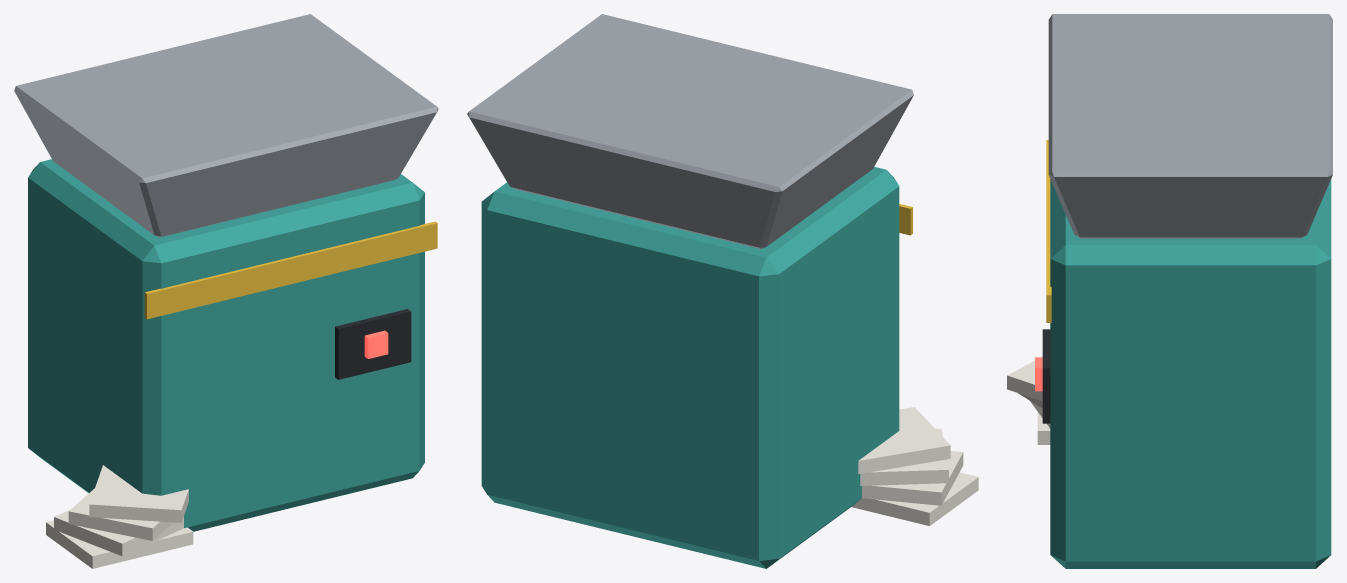
File: shredder_3.glb
3 views of the same model, side by side, from view 1: azimuth 30°, elevation 25°; view 2: azimuth 150°, elevation 25°; view 3: azimuth 270°, elevation 25° (orthographic). The views are drawn at different scales.
Visible parts, largest first — view 1: shredder_3_mesh; view 2: shredder_3_mesh; view 3: shredder_3_mesh.
Part boxes in pixels (x1=…): shredder_3_mesh: x1=14, y1=14, x2=438, y2=568; shredder_3_mesh: x1=467, y1=14, x2=978, y2=568; shredder_3_mesh: x1=1007, y1=14, x2=1332, y2=568.
Bounding box in the file's own units: 0.8801 × 0.88 × 0.6383.
